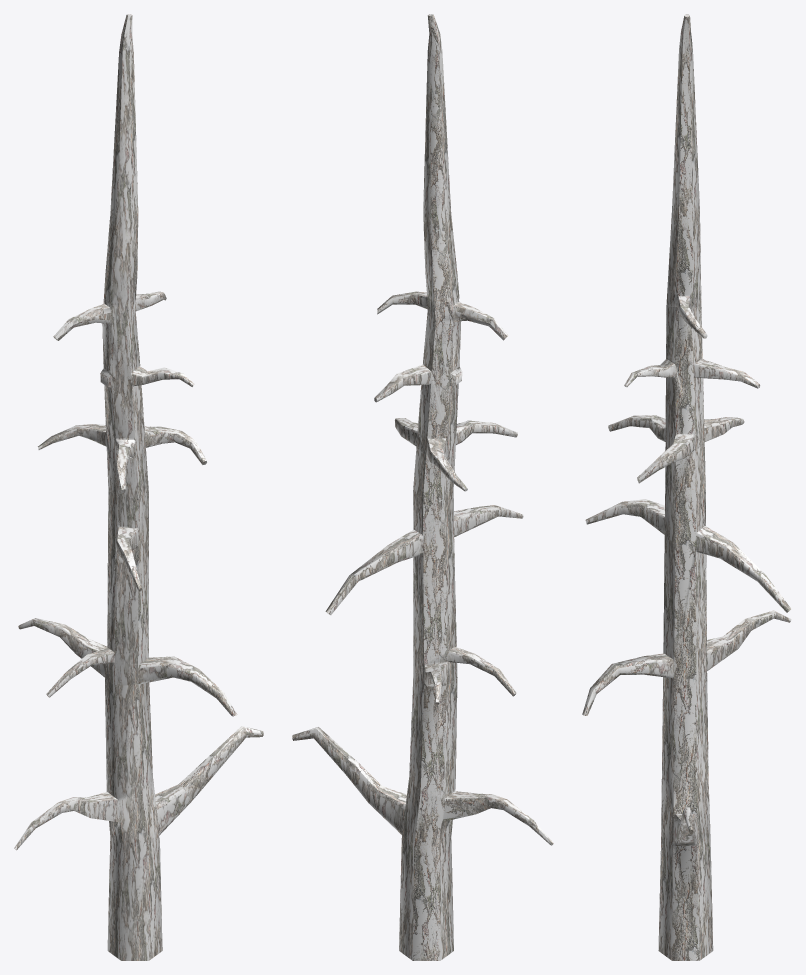
File: bereza.fbx
3 views of the same model, side by side, from view 1: azimuth 30°, elevation 25°; view 2: azimuth 150°, elevation 25°; view 3: azimuth 270°, elevation 25° (orthographic).
Visible parts, largest first — view 1: Дерево; view 2: Дерево; view 3: Дерево.
Part boxes in pixels (x1,y1,x2,y2): Дерево: (14,14,263,960); Дерево: (292,14,553,960); Дерево: (582,14,791,960).
Size of the model in its own units: 884 by 3108 by 632.
Materials: 1 (1 with a texture image).
